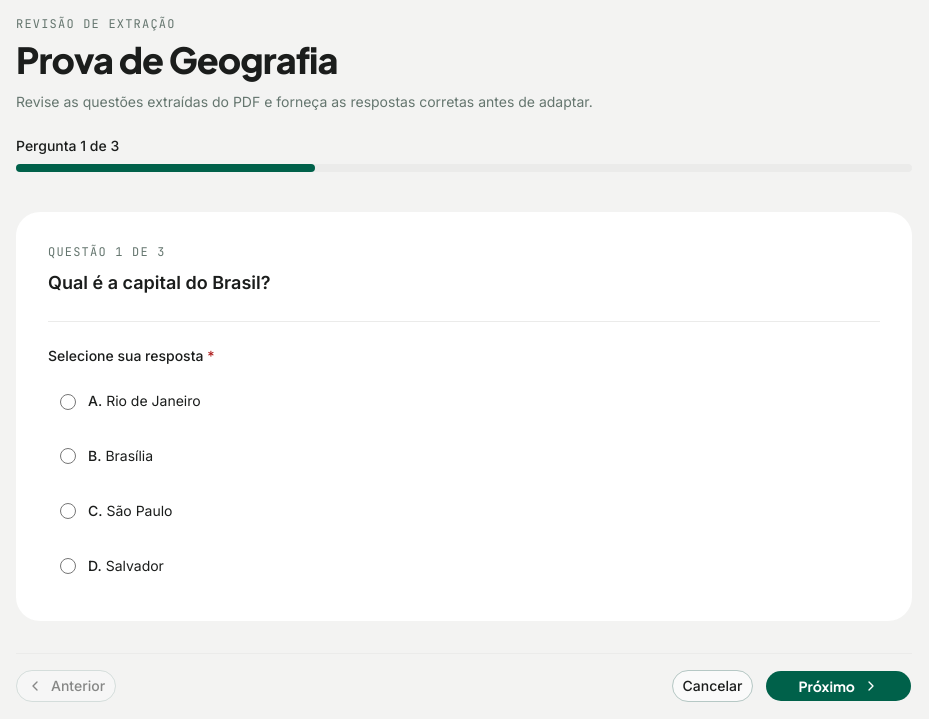
Test: ExtractionForm › Form Validation › should validate all questions before final submission
What coordinates should you click on to do the following:
click the radio button with aria-label "Alternativa B: Brasília"
I would click on:
 (68, 456)
Its box is [60,448,76,464].
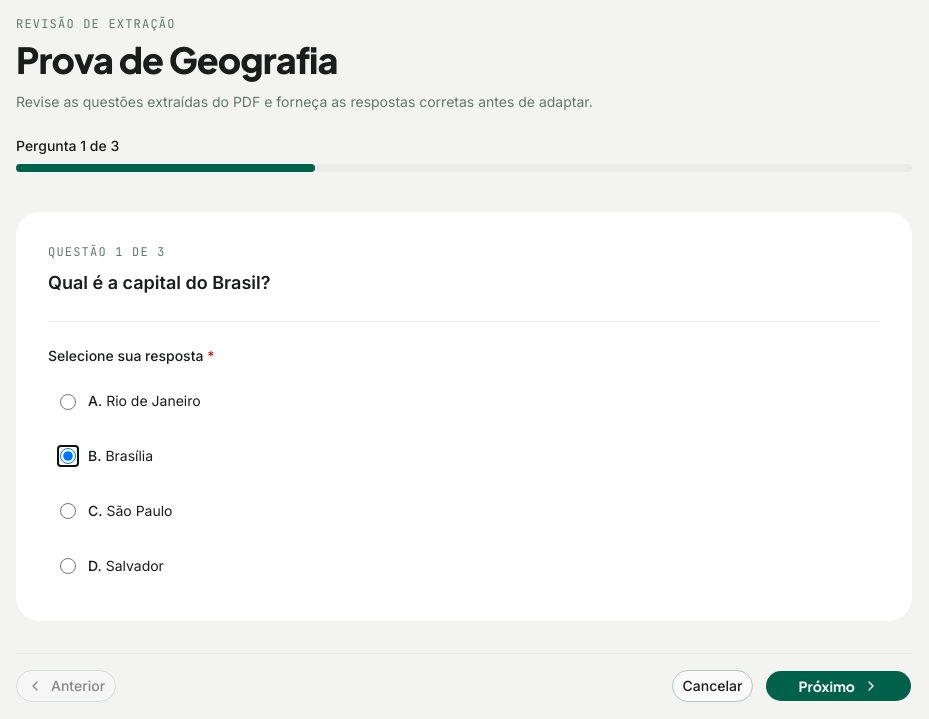
What coordinates should you click on to do the following:
click the button "Próximo"
I would click on:
 (839, 686)
Its box is [765,670,912,702].
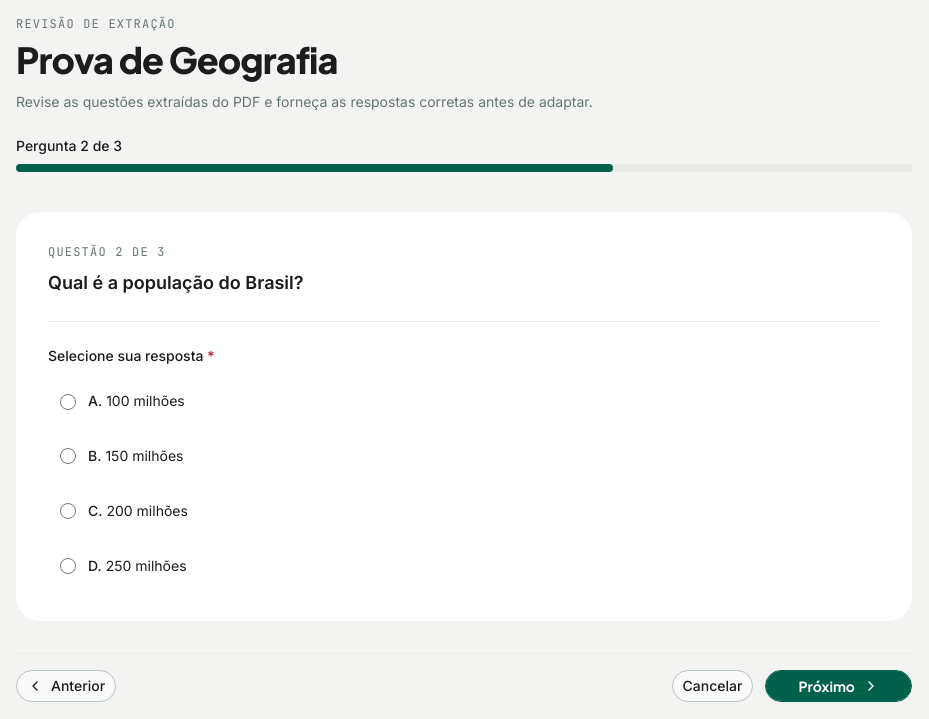
Now the text "Pergunta 2 de 3" is shown, box [16,137,122,154]
What coordinates should you click on to do the following:
click the radio button with aria-label "Alternativa B: 150 milhões"
I would click on:
 (68, 456)
Its box is [60,448,76,464].
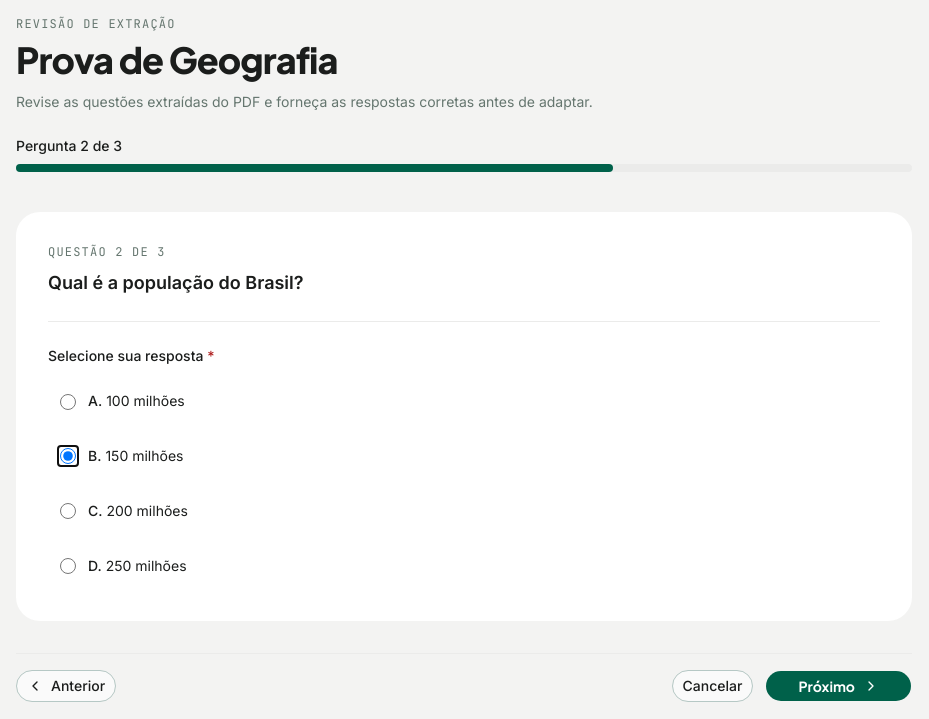
What coordinates should you click on to do the following:
click the button "Próximo"
I would click on:
 (839, 686)
Its box is [765,670,912,702].
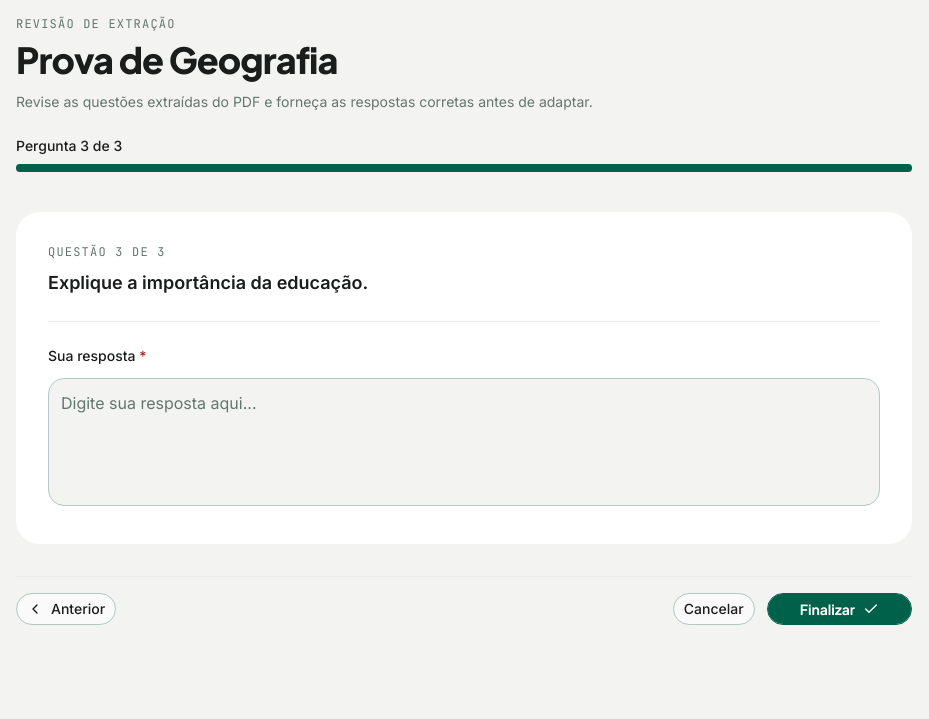
Now the text "Pergunta 3 de 3" is shown, box [16,137,122,154]
What coordinates should you click on to do the following:
click the button "Finalizar"
I would click on:
 (839, 609)
Its box is [767,593,912,625].
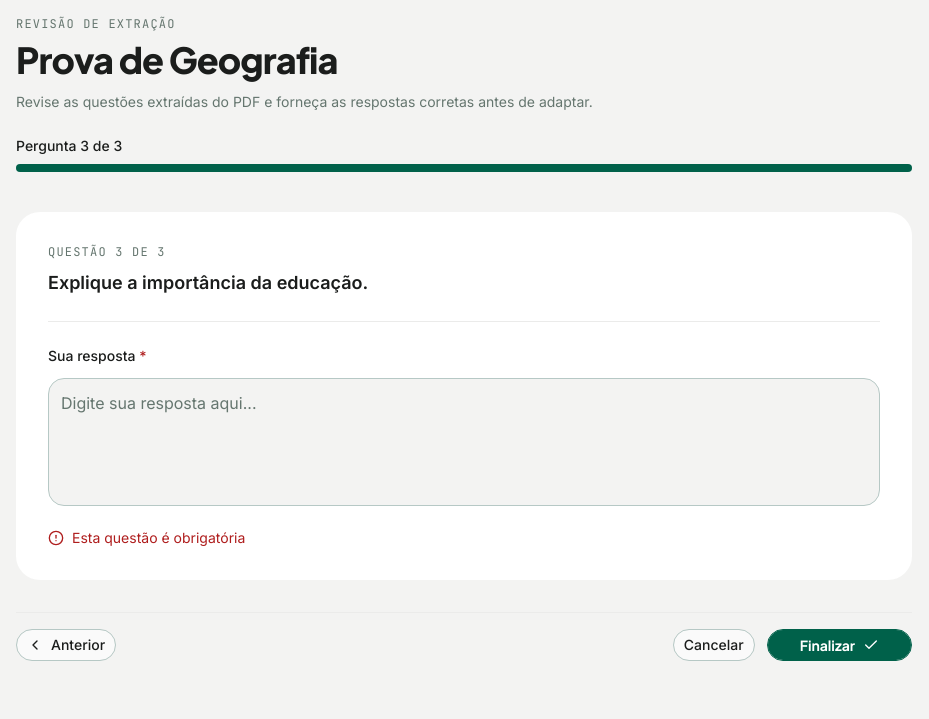
Now the text "Pergunta 3 de 3" is shown, box [16,137,122,154]
Now the text "Esta questão é obrigatória" is shown, box [48,529,245,546]
